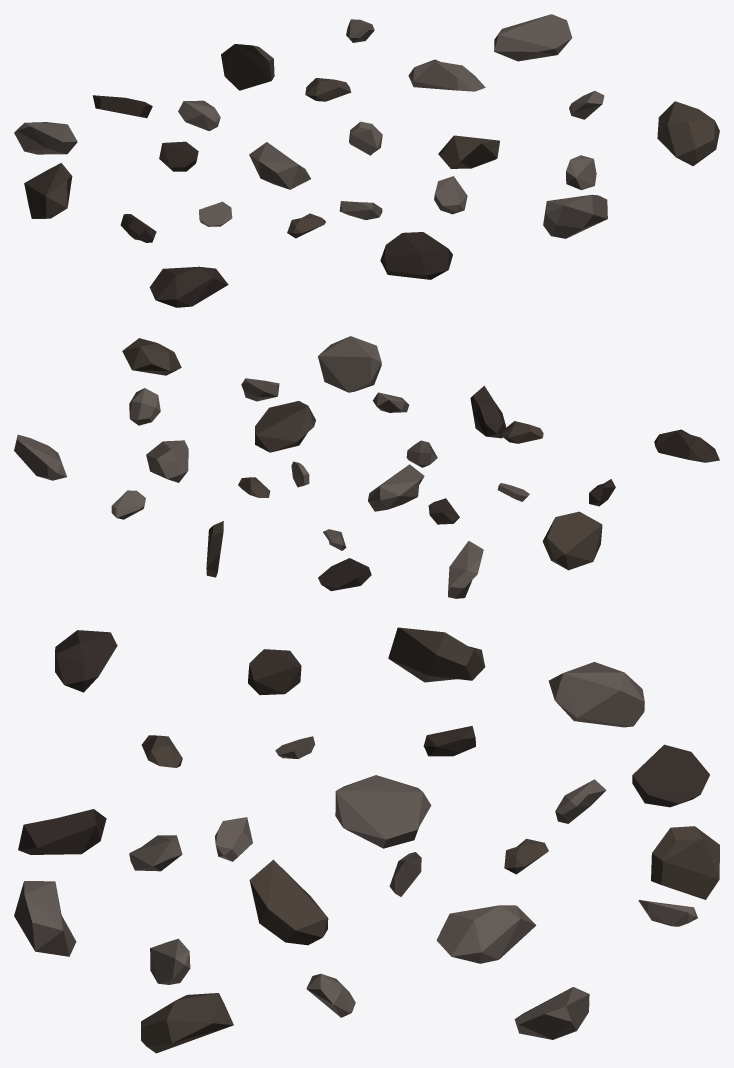
The model's file is Pebbles_01.fbx.
3 views of the same model, one above another, from view 1: azimuth 30°, elevation 25°; view 2: azimuth 150°, elevation 25°; view 3: azimuth 270°, elevation 25° (orthographic). The views are drawn at different scales.
Visible parts, largest first — view 1: Pebbles_01; view 2: Pebbles_01; view 3: Pebbles_01.
Part boxes in pixels (<box>): Pebbles_01: <box>14,14,719,307</box>; Pebbles_01: <box>14,336,719,598</box>; Pebbles_01: <box>14,627,719,1053</box>.
Bounding box in the file's own units: 149 × 14.94 × 112.
Materials: 1 (1 with a texture image).
